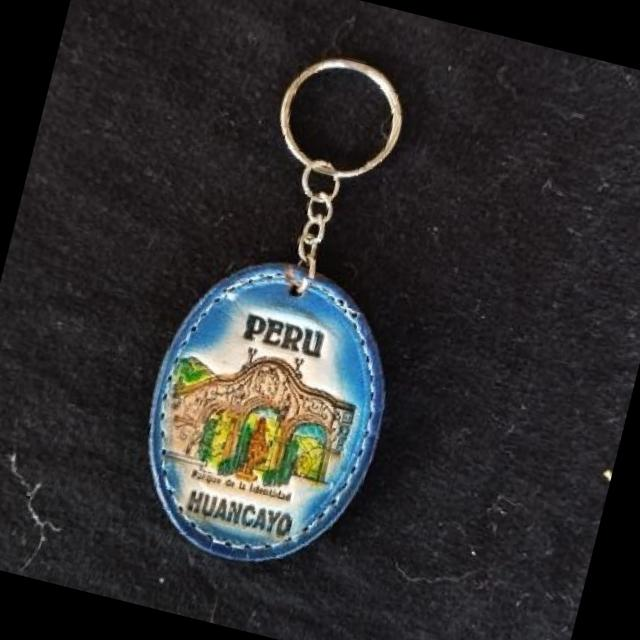Llavero: (117, 238, 416, 588)
